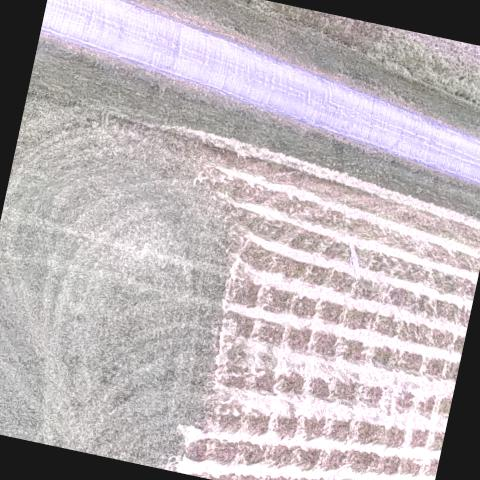person: (339, 239, 367, 276)
